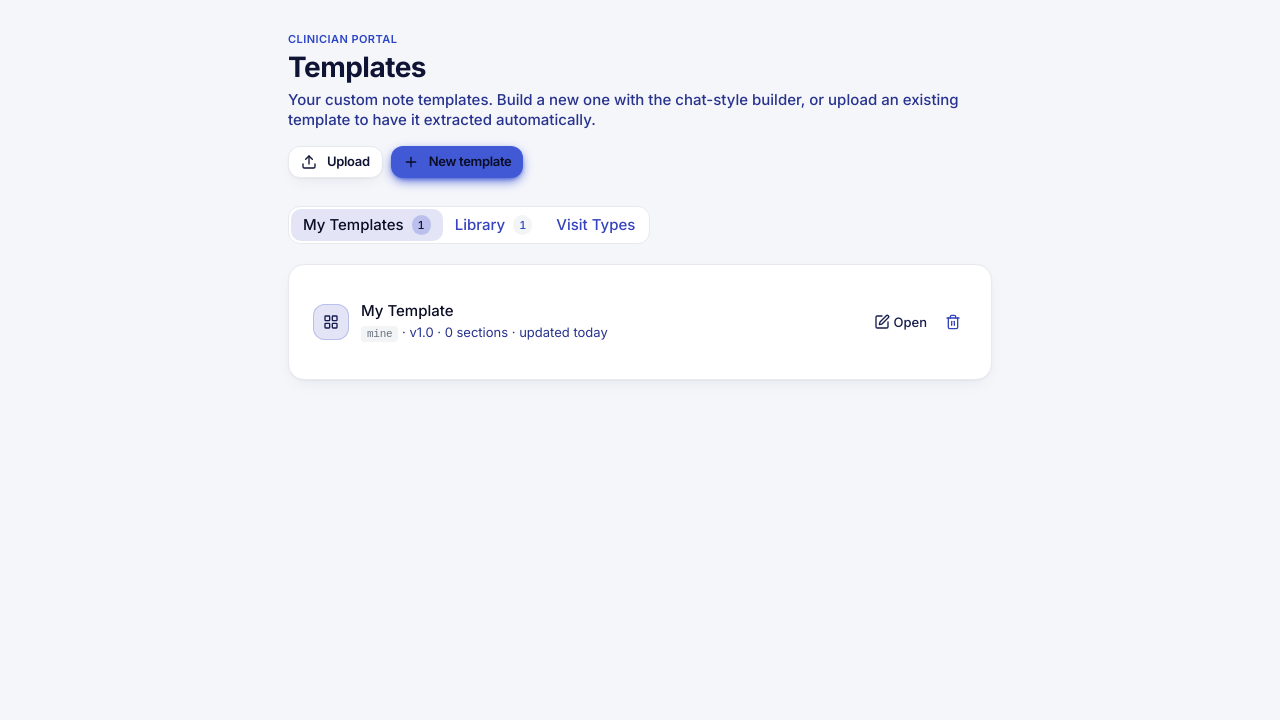
Scenario: PortalTemplatesPage — ownership gating + delete modal › deletes through the modal (not a native confirm)
Later steps or results of the test are not shown.
Click the button named "Delete My Template" at [953, 322], box x1=939 y1=308 x2=967 y2=336
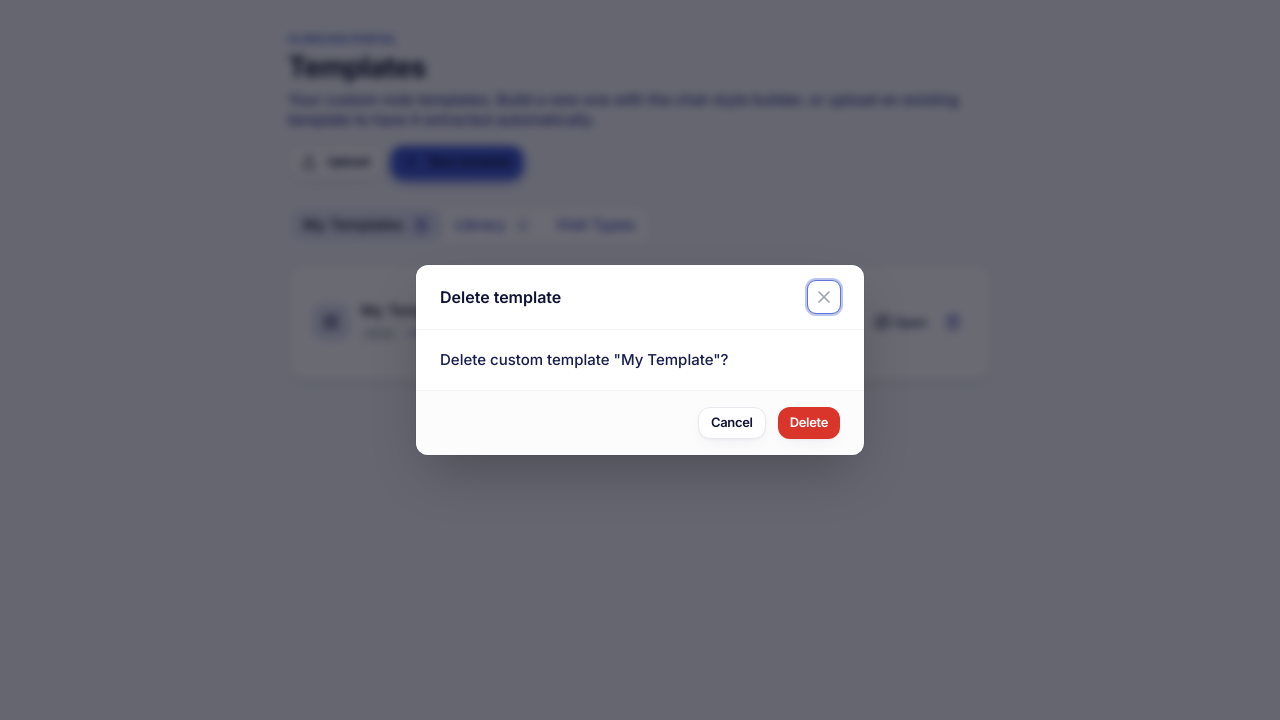
Expected: the heading "Delete template" is shown, x1=440 y1=285 x2=561 y2=309
